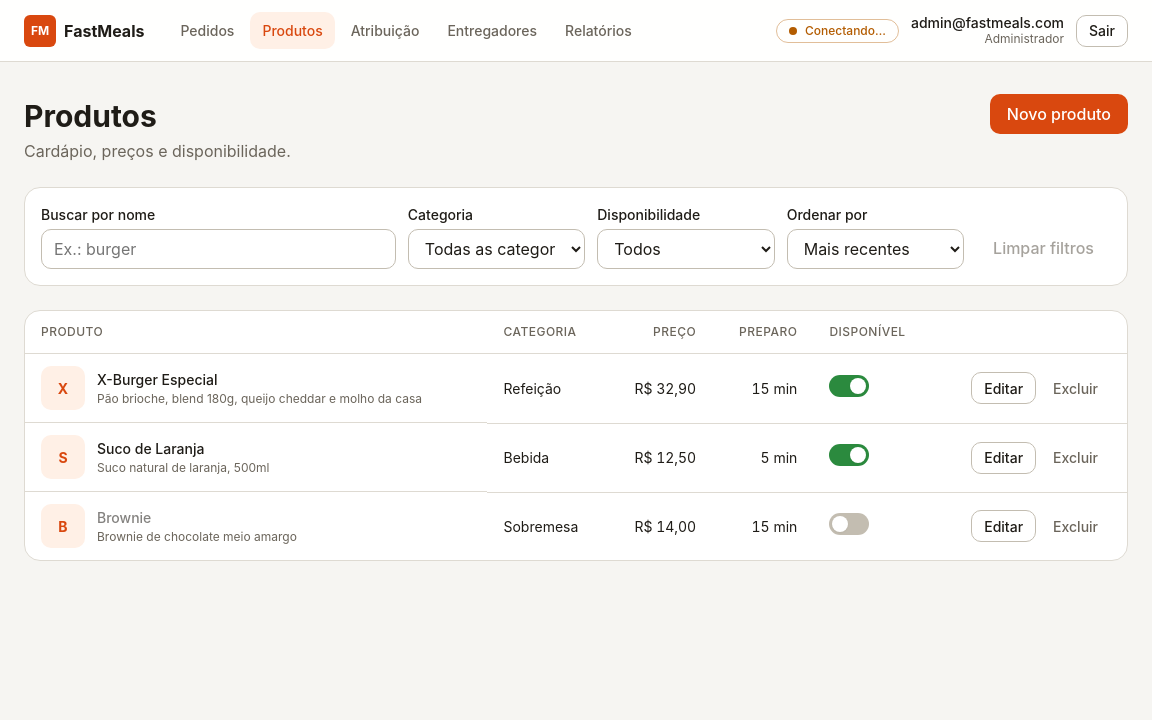
Test: Tela de produtos › edita um produto a partir dos dados atuais
Click the button "Editar" in the row of "Suco de Laranja" at (1004,458), box [971,442,1036,474]
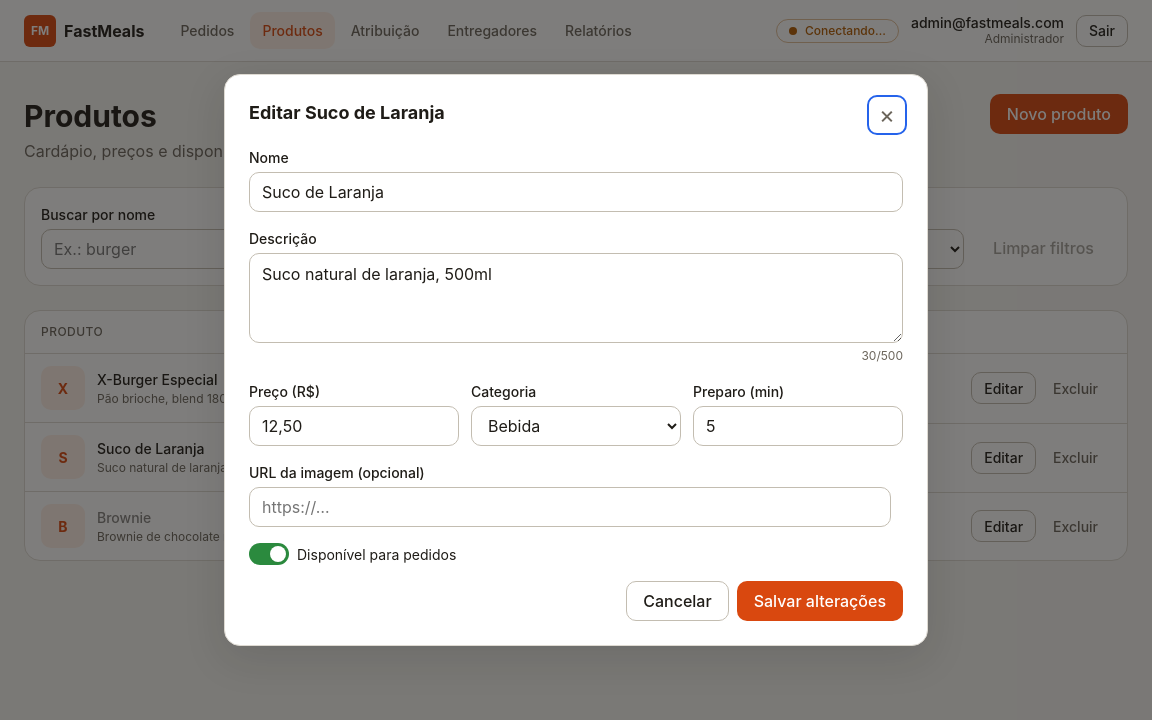
Check: the field labelled "Preço (R$)" holds "12,50"
Replace the text in the field labelled "Preço (R$)" with "13,90" at (354,426), box [249,406,459,446]
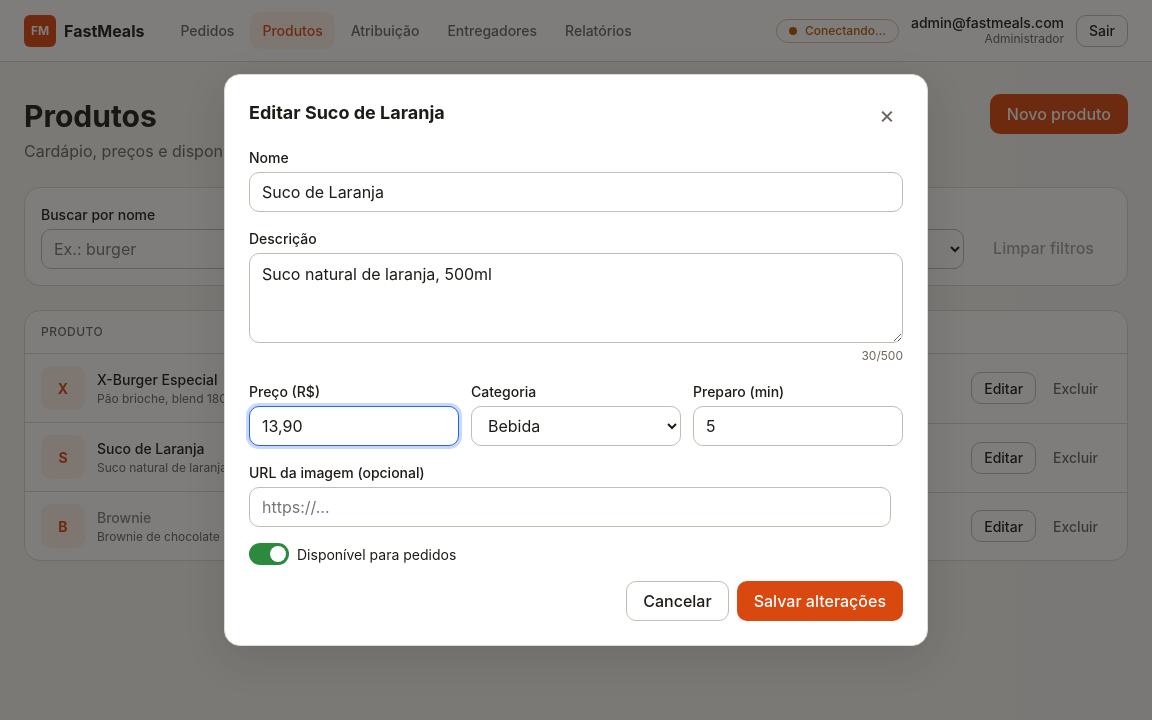
Click the button "Salvar alterações" at (820,601), box [737,581,903,621]
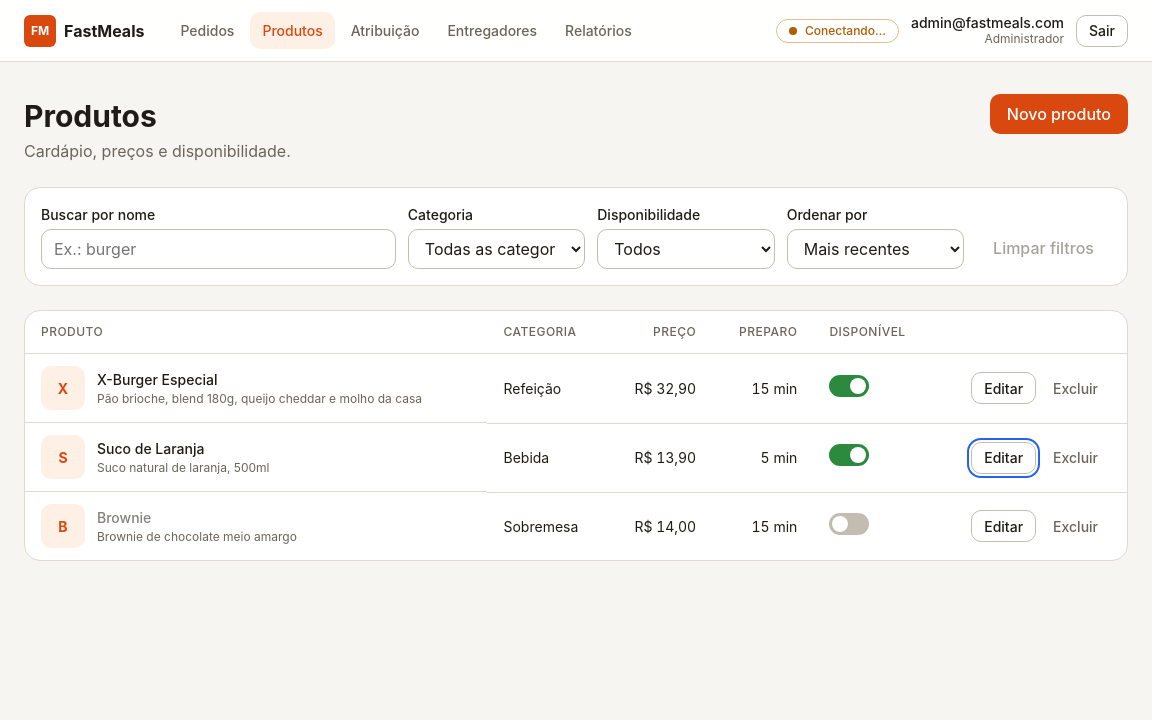
Check: the dialog is gone
